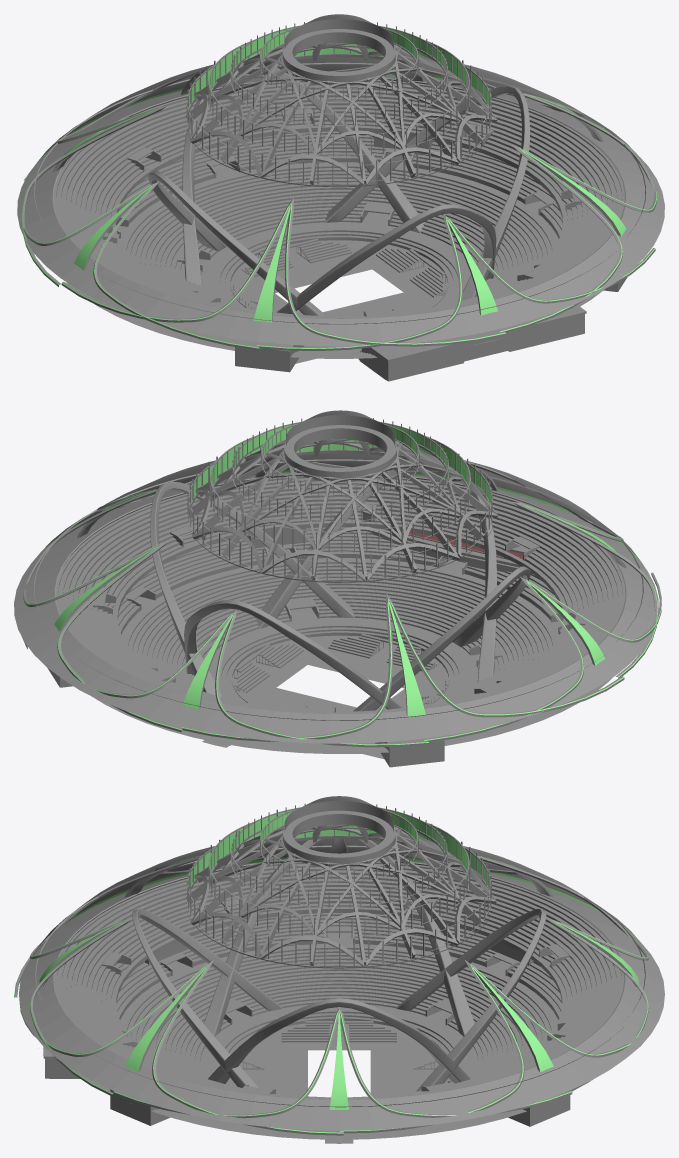
The model's file is SM_STA01_Test.gltf.
3 renders of one model, top to bottom at view 1: azimuth 30°, elevation 25°; view 2: azimuth 150°, elevation 25°; view 3: azimuth 270°, elevation 25°, orthographic.
Visible parts, largest first — view 1: SM_STA01_Test; view 2: SM_STA01_Test; view 3: SM_STA01_Test.
Boxes of the visible parts, x1,y1,x2,y2 form: SM_STA01_Test: (17,14,664,381); SM_STA01_Test: (14,410,661,767); SM_STA01_Test: (14,796,664,1143).
Bounding box in the file's own units: 198 × 91.74 × 197.
